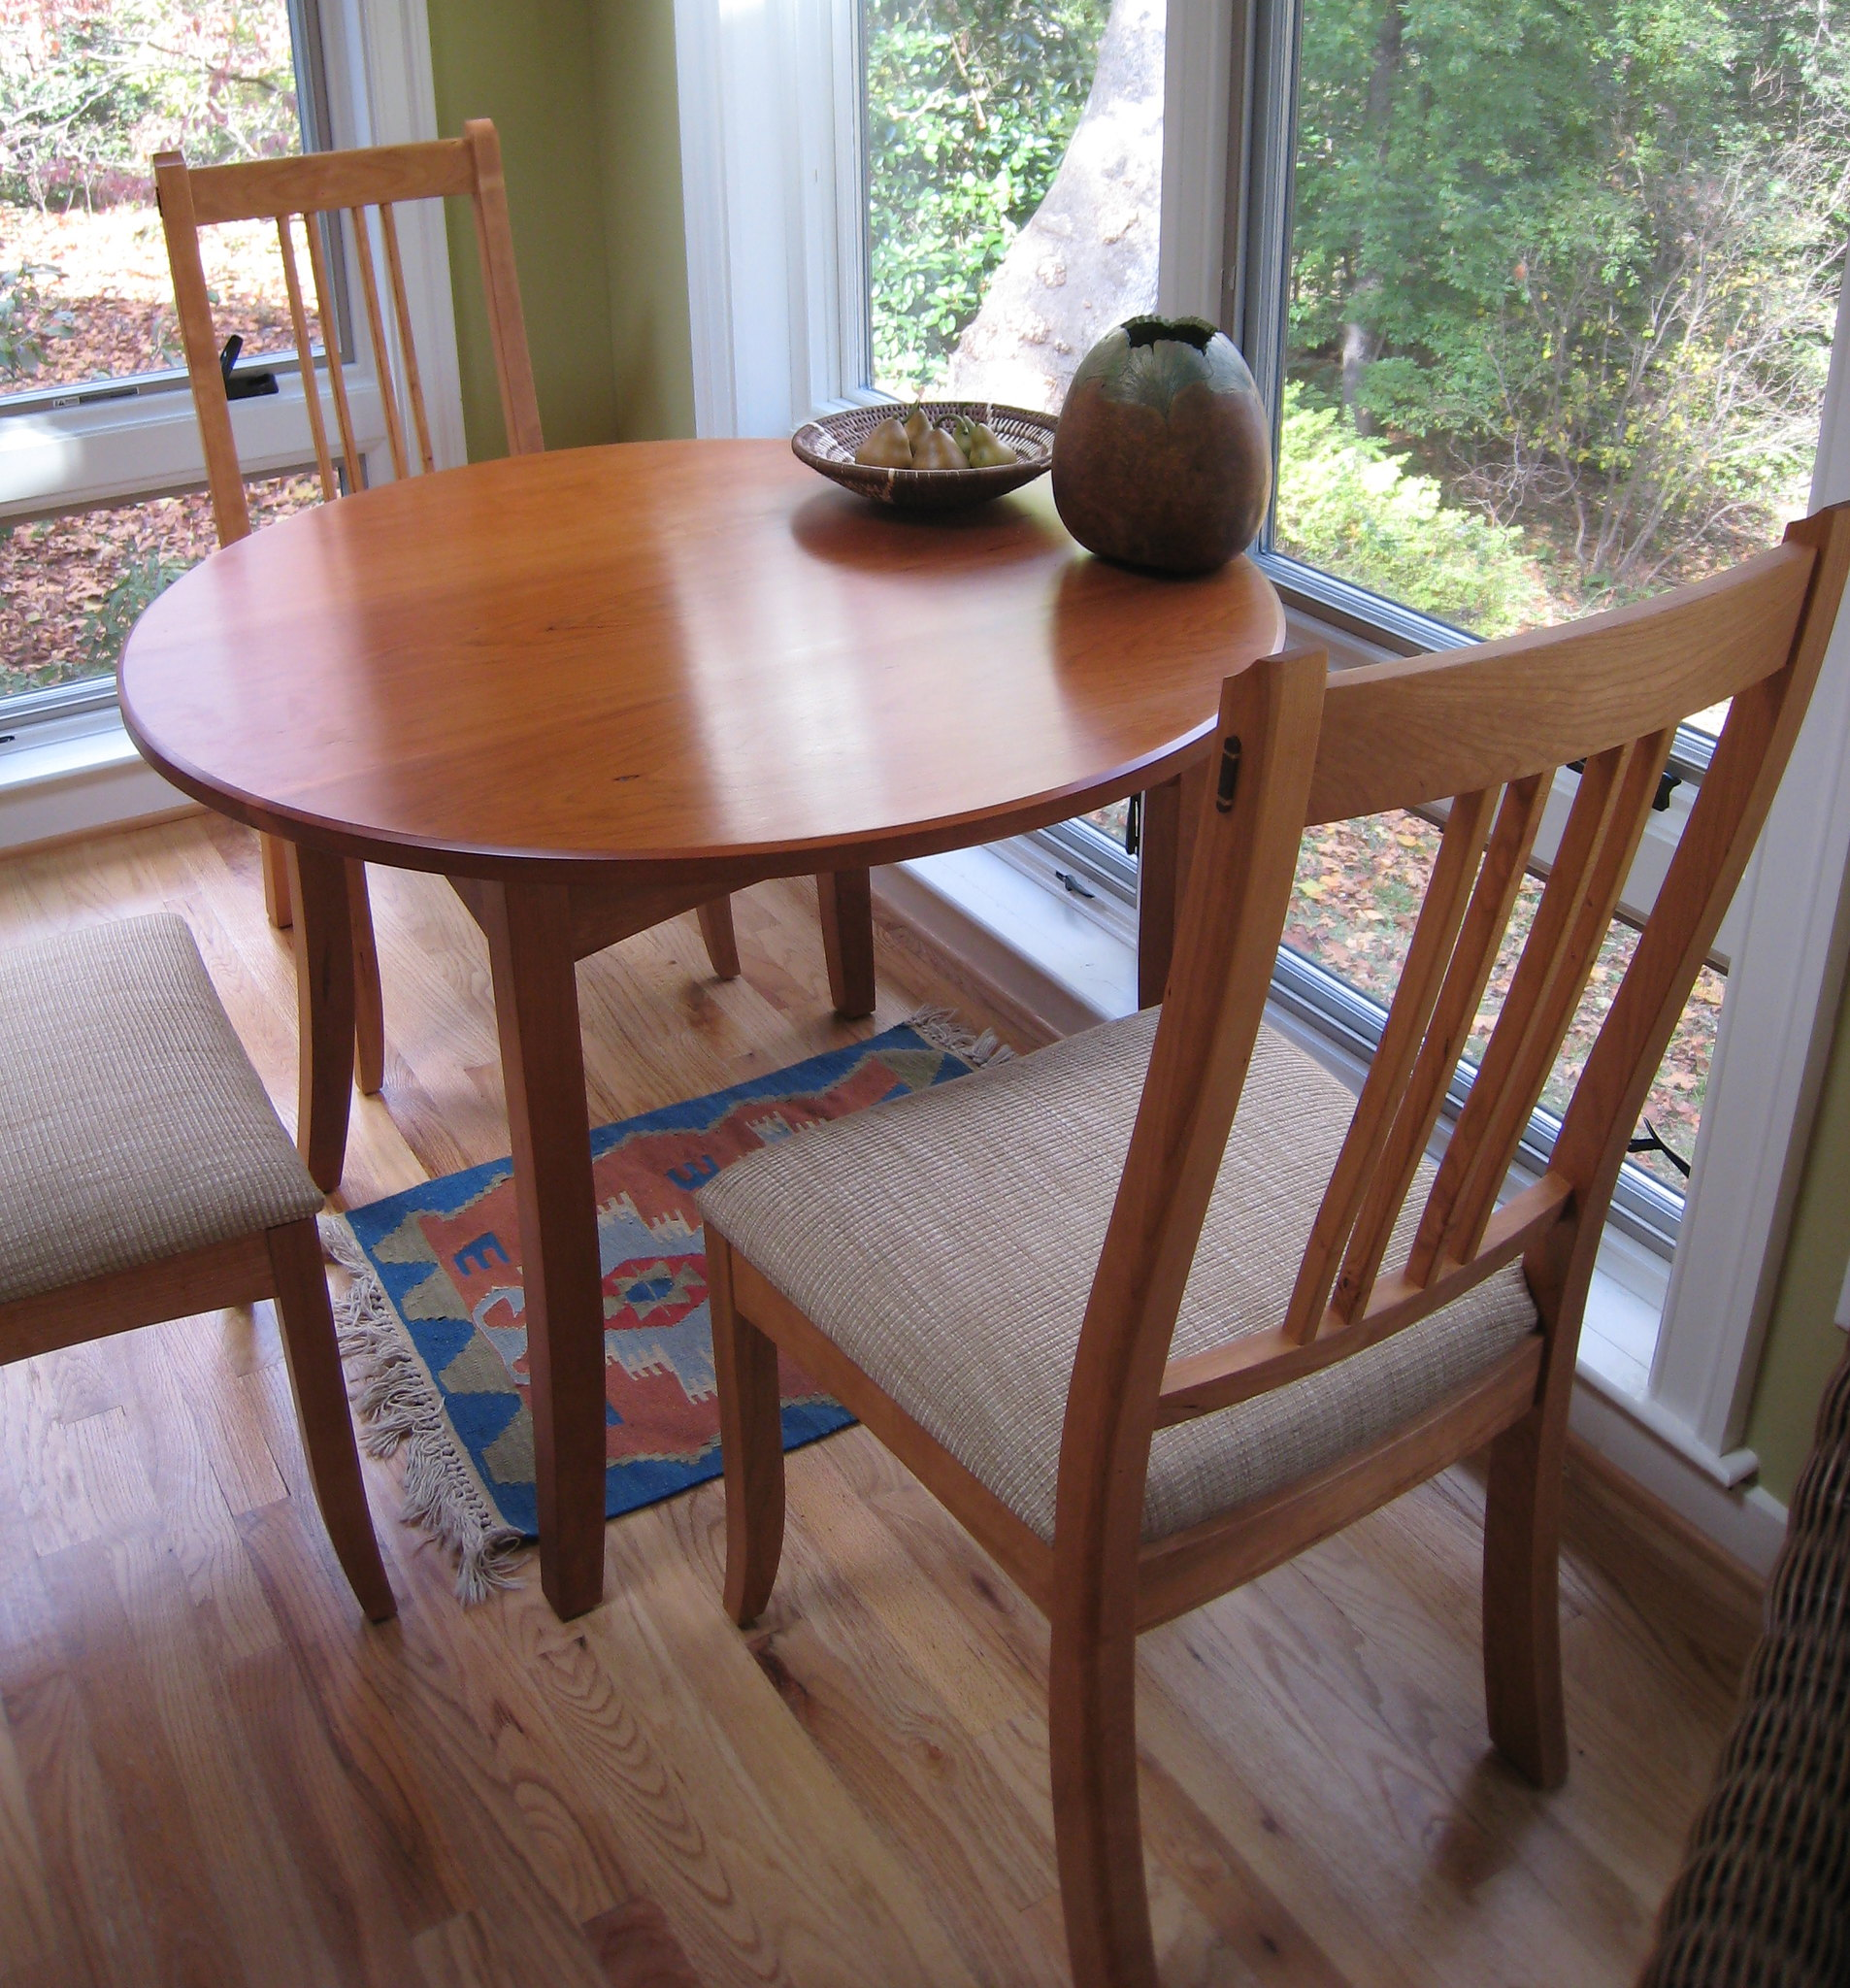chair: (869, 508, 1760, 1943)
dining table: (80, 299, 1320, 1711)
